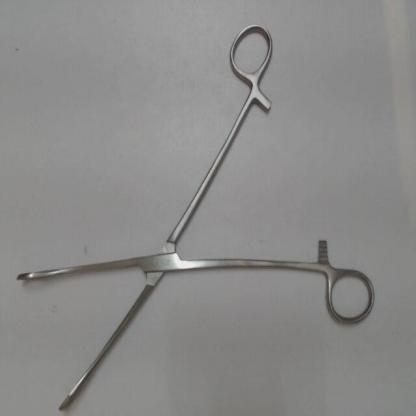Sponge Forceps: (10, 18, 379, 413)
